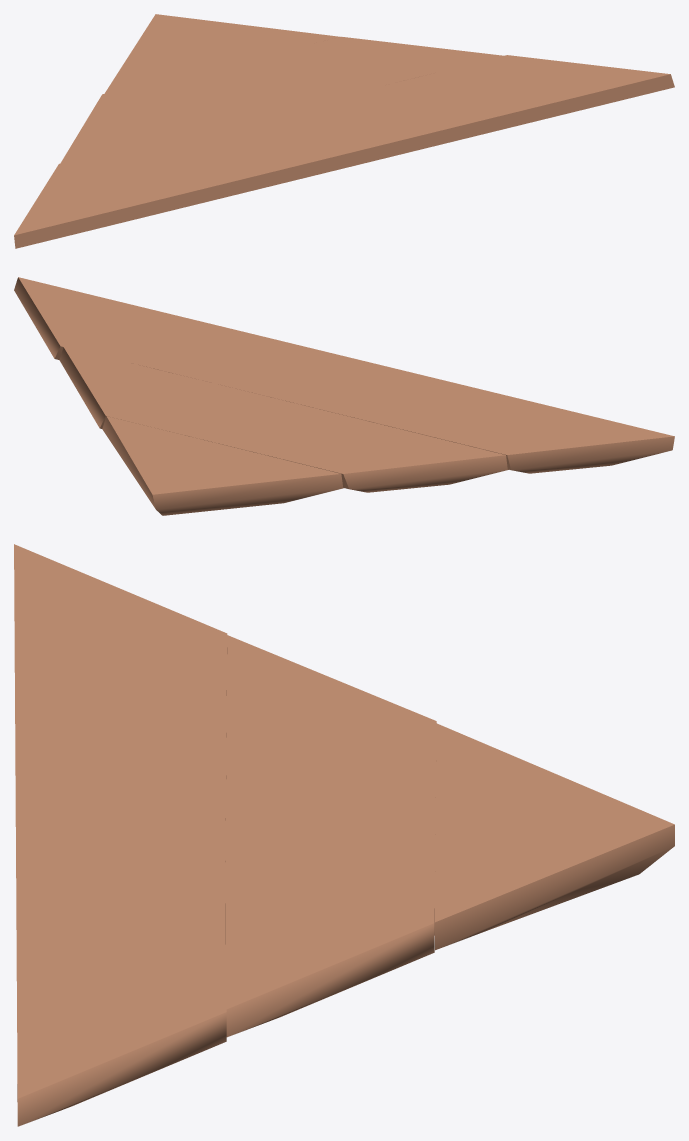
The model's file is rt90_wood_4_pineSplitLogTriFloorSection2.glb.
3 views of the same model, one above another, from view 1: azimuth 30°, elevation 25°; view 2: azimuth 150°, elevation 25°; view 3: azimuth 270°, elevation 25° (orthographic). The views are drawn at different scales.
Parts seen in each view (by area): view 1: inside; view 2: inside; view 3: inside.
Boxes of the visible parts, x1=… form: inside: x1=14, y1=14, x2=674, y2=248; inside: x1=14, y1=277, x2=674, y2=515; inside: x1=14, y1=544, x2=674, y2=1126.
Bounding box in the file's own units: 2.93 × 0.1233 × 1.47.
